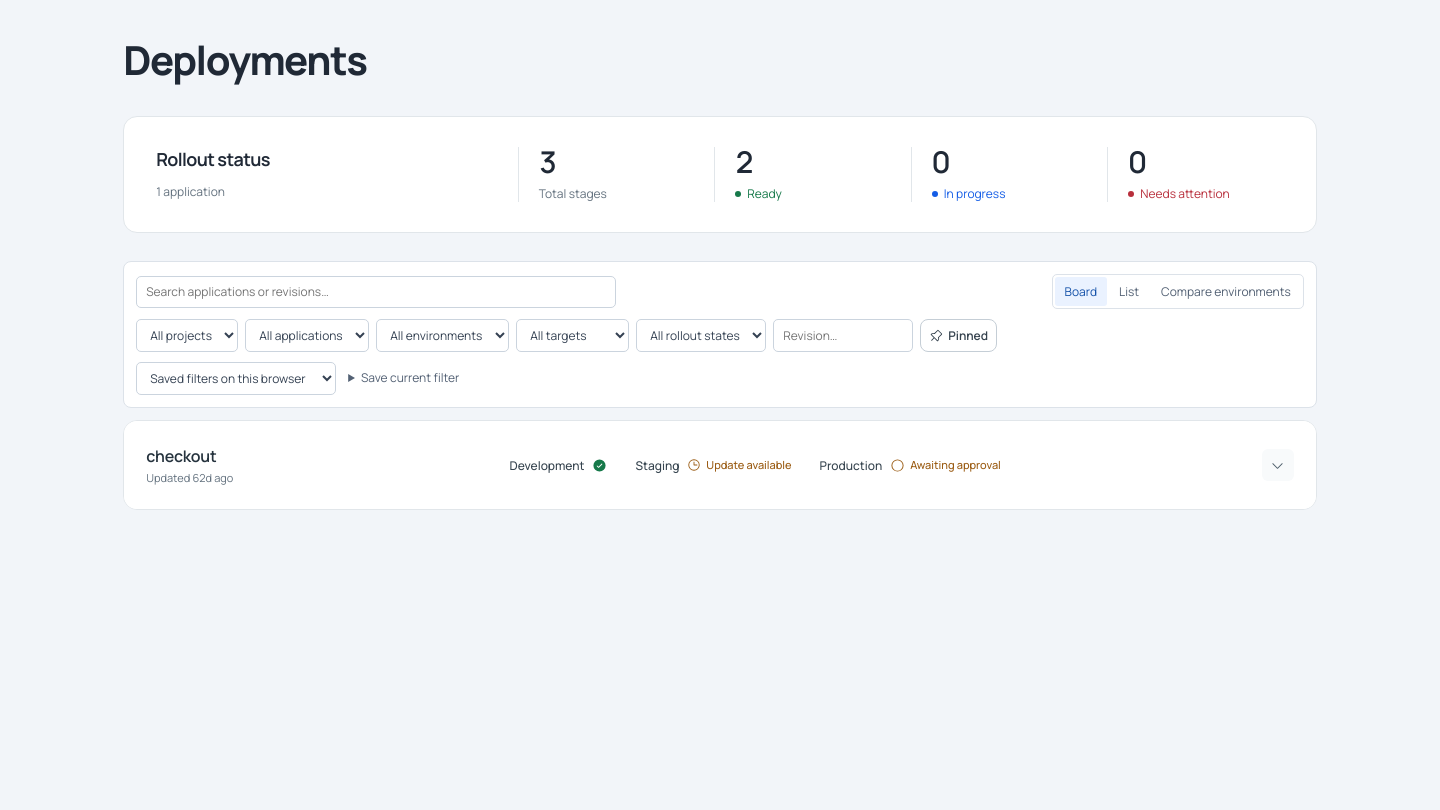
Test: deployment navigation › shows configured promotion stages and exposes revision drift
The image size is (1440, 810).
Expected: the text "Update available" is shown, [706,457,792,473]
Click the button named "Expand checkout deployment". click: (1278, 465)
box: [1262,449,1294,481]
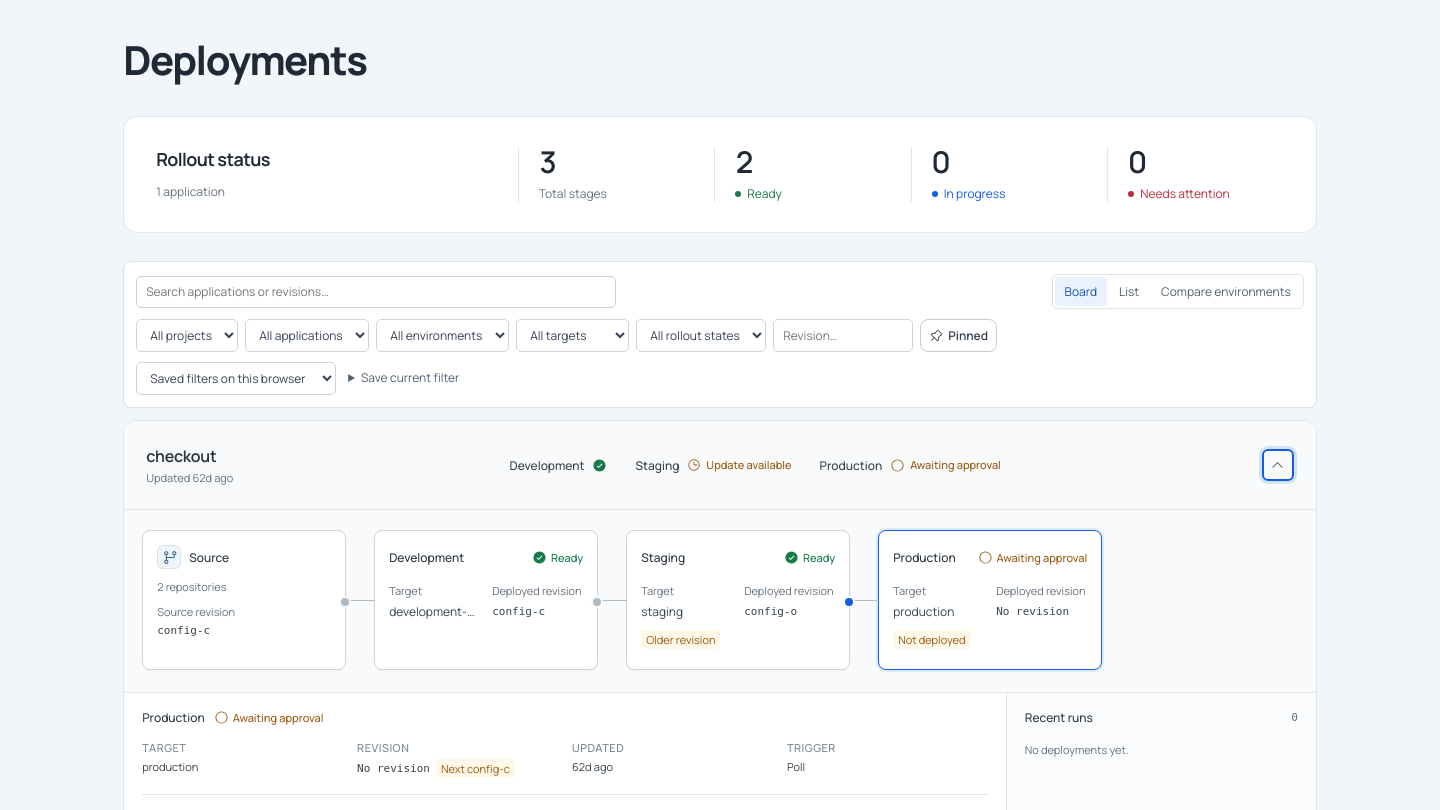
Expected: the button with aria-label "Development, Ready, target development-cluster" is shown, [374,530,598,670]
Click the button with aria-label "Staging, Ready". click: (738, 600)
box: [626,530,850,670]
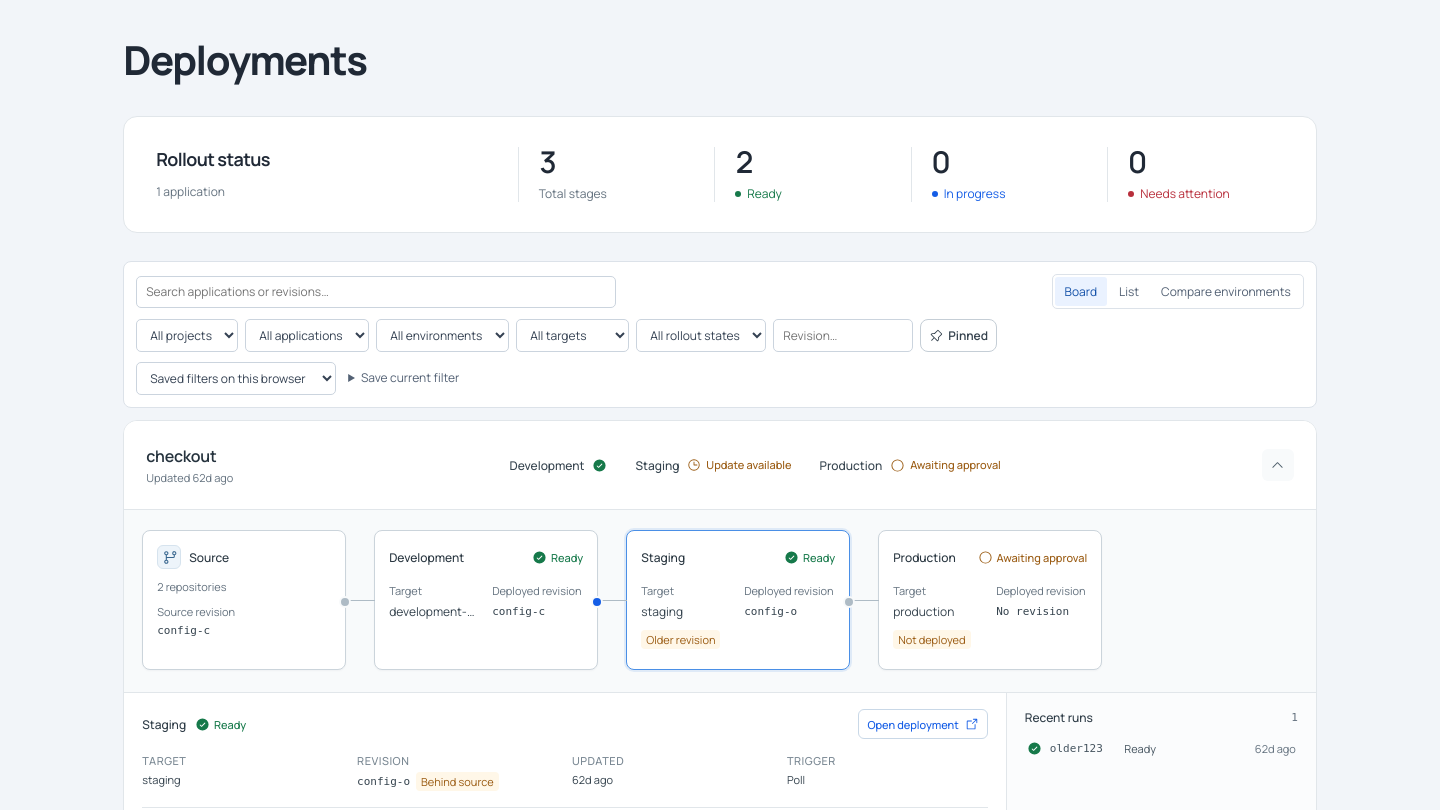
Expected: the text "Behind source" is shown, [416,772,499,791]
